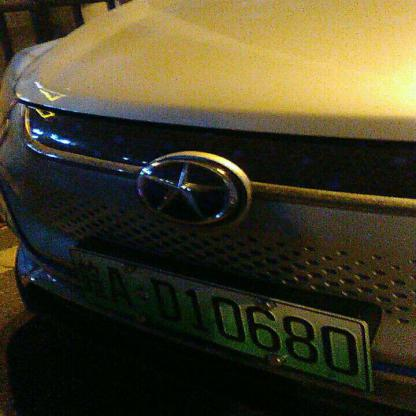lp: (69, 324, 369, 390)
